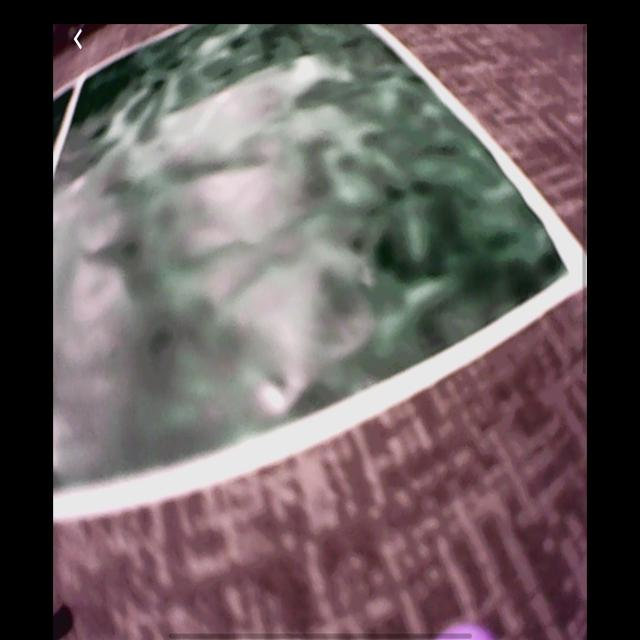ball: (435, 621, 510, 640)
